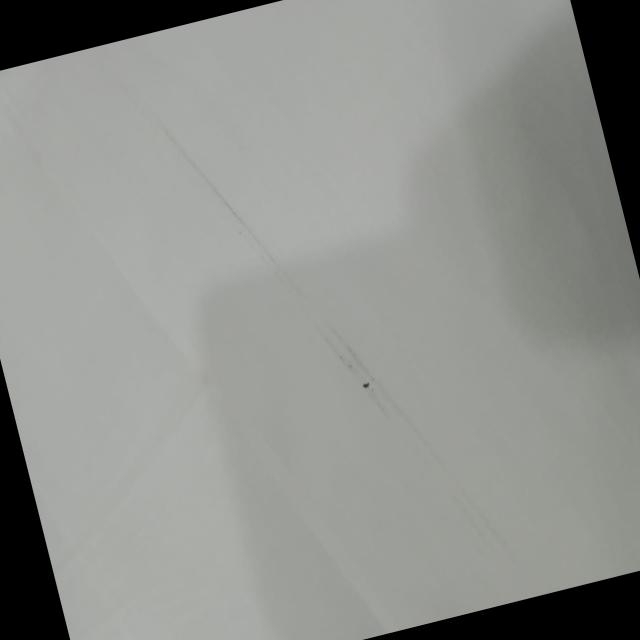stain: (300, 283, 408, 433)
